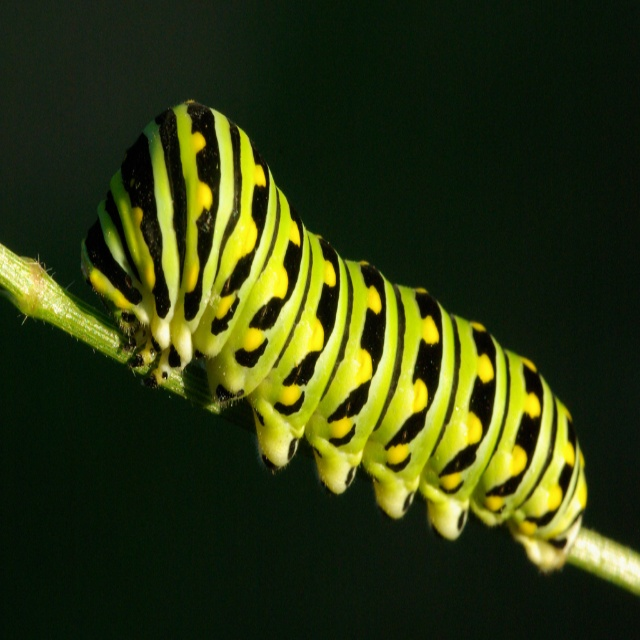Caterpillar: (76, 98, 622, 542)
